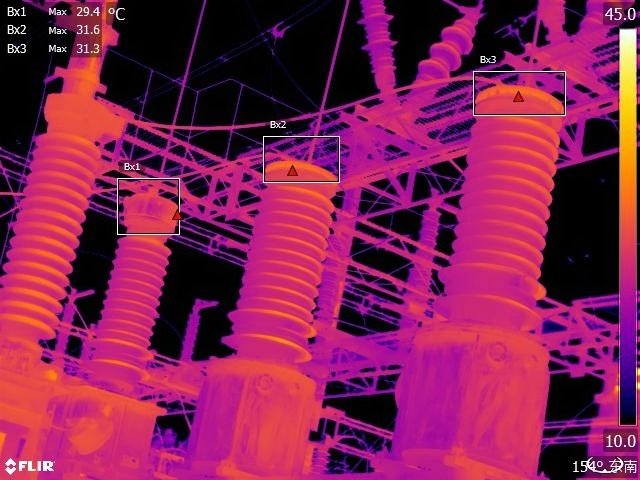clamp: (269, 19, 291, 46)
post insulator: (417, 9, 487, 78), (362, 1, 399, 80), (407, 211, 440, 297), (53, 297, 79, 361), (179, 309, 205, 361)
potential transformer: (385, 81, 574, 476), (192, 157, 349, 479), (1, 91, 131, 438)
